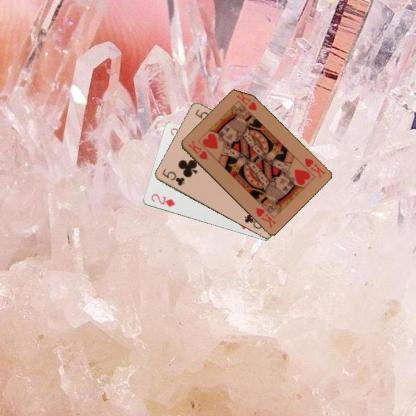2d: (149, 191, 176, 209)
5c: (160, 166, 186, 188)
Kh: (301, 155, 326, 180), (185, 138, 208, 161)
